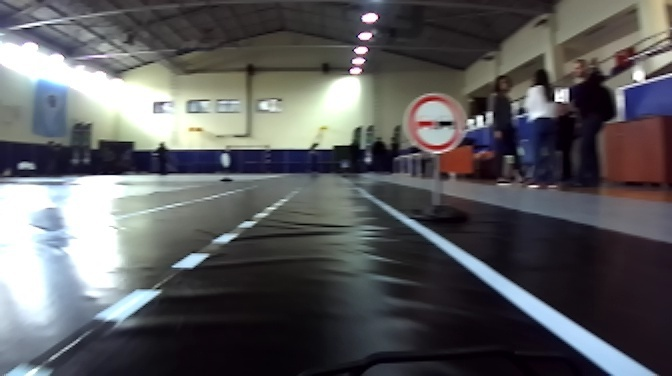sollama_yasak: (404, 92, 465, 157)
